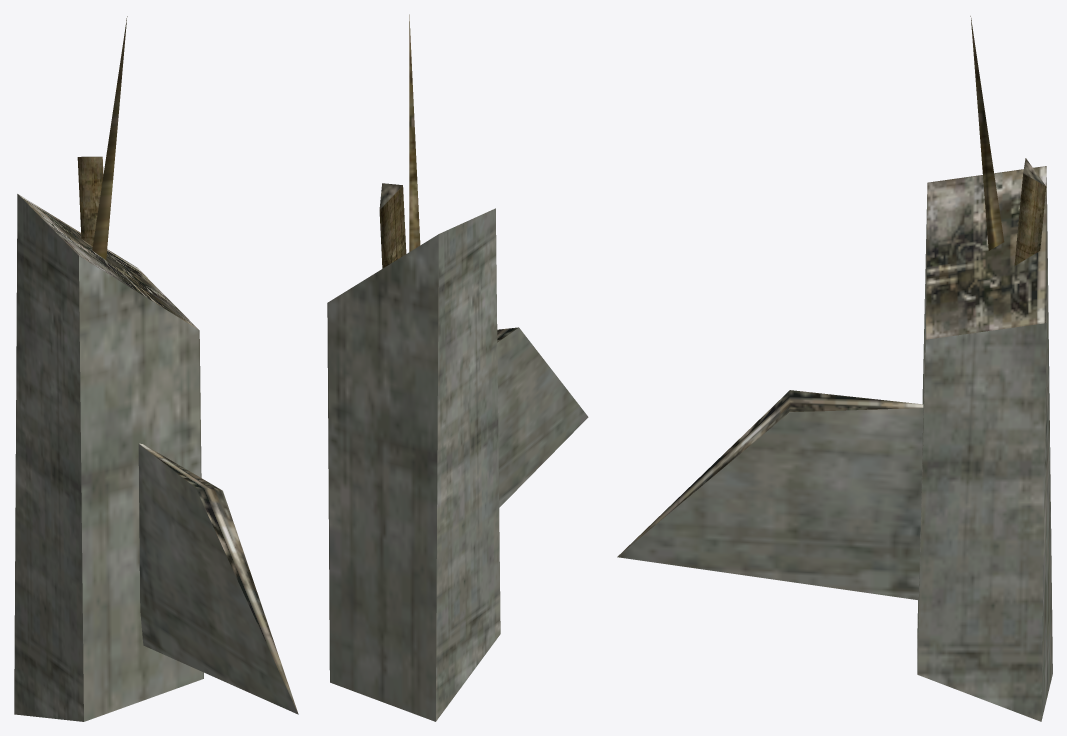
File: thm_prp_junk_s1_l2.fbx
3 views of the same model, side by side, from view 1: azimuth 30°, elevation 25°; view 2: azimuth 150°, elevation 25°; view 3: azimuth 270°, elevation 25° (orthographic). The views are drawn at different scales.
Visible parts, largest first — view 1: mesh_node; view 2: mesh_node; view 3: mesh_node.
Boxes of the visible parts, x1=… form: mesh_node: x1=14, y1=16, x2=298, y2=721; mesh_node: x1=327, y1=14, x2=588, y2=721; mesh_node: x1=617, y1=16, x2=1052, y2=721.
Size of the model in its own units: 1.11 by 6.3 by 3.59.
